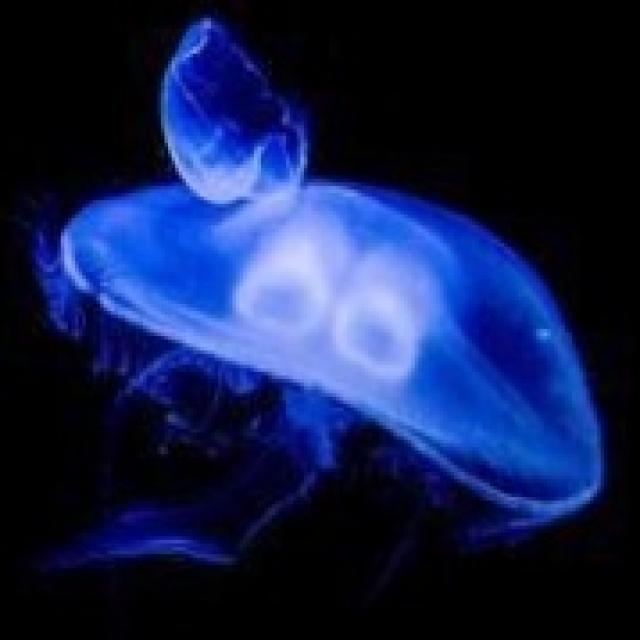Moon-jellyfish: (25, 11, 604, 550)
